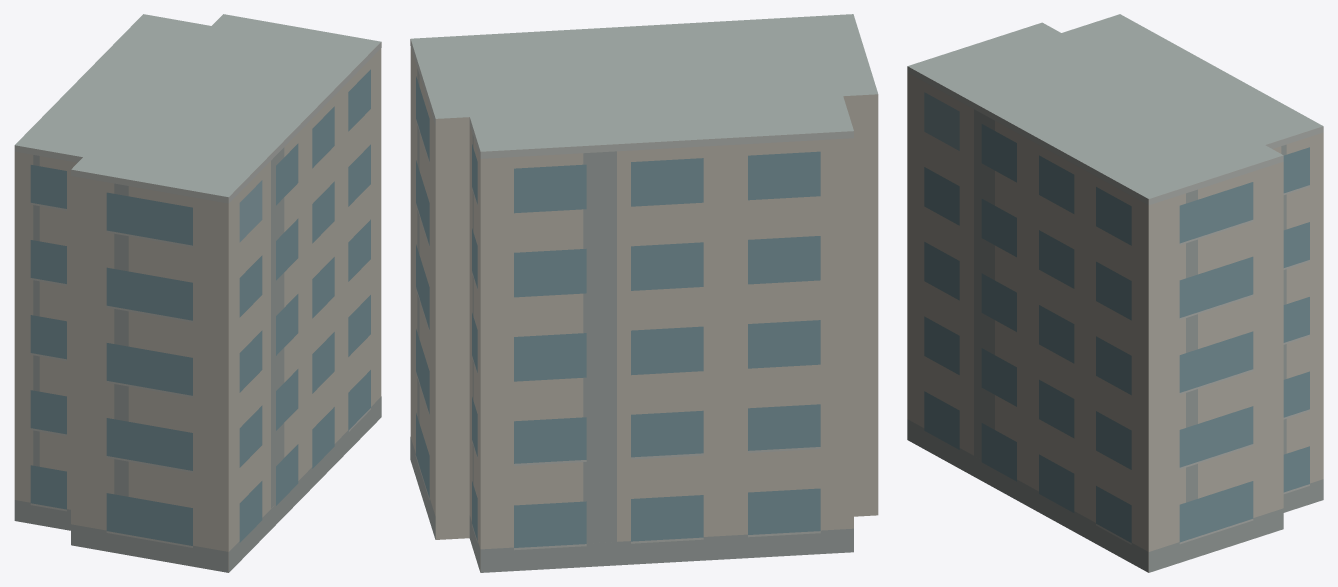
Rendered from residential-a99b2038-afab-475e-9272-f0b013943e0e.glb.
The picture shows the model from 3 angles, left to right: view 1: azimuth 30°, elevation 25°; view 2: azimuth 150°, elevation 25°; view 3: azimuth 270°, elevation 25°; orthographic projection. The views are drawn at different scales.
Visible parts, largest first — view 1: residential-a99b2038-afab-475e-9272-f0b013943e0e.tmp; view 2: residential-a99b2038-afab-475e-9272-f0b013943e0e.tmp; view 3: residential-a99b2038-afab-475e-9272-f0b013943e0e.tmp.
Part boxes in pixels (<box>): residential-a99b2038-afab-475e-9272-f0b013943e0e.tmp: <box>14,14,381,572</box>; residential-a99b2038-afab-475e-9272-f0b013943e0e.tmp: <box>410,14,878,572</box>; residential-a99b2038-afab-475e-9272-f0b013943e0e.tmp: <box>907,14,1323,572</box>.
Size of the model in its own units: 15.3 by 14.4 by 14.54.
